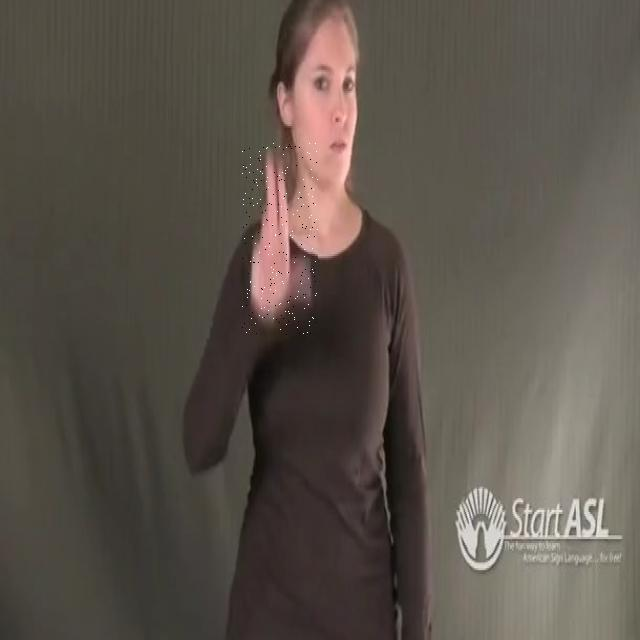no: (242, 144, 318, 336)
